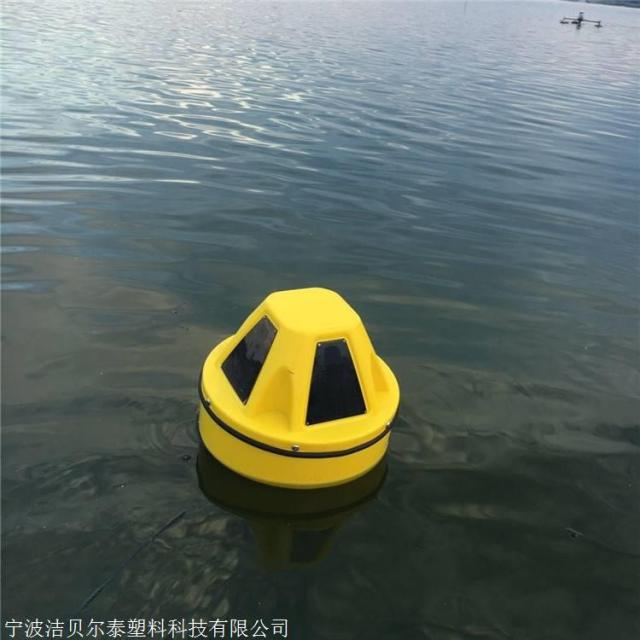buoy: (193, 283, 408, 482)
